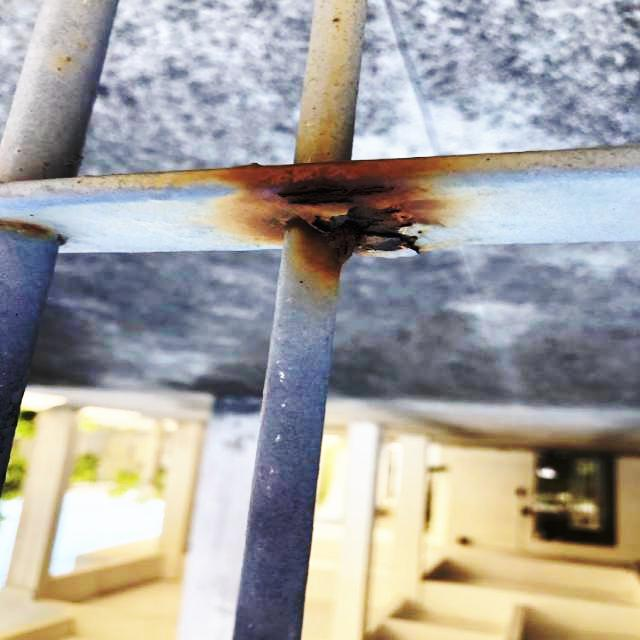Corrosion: (234, 155, 434, 295)
